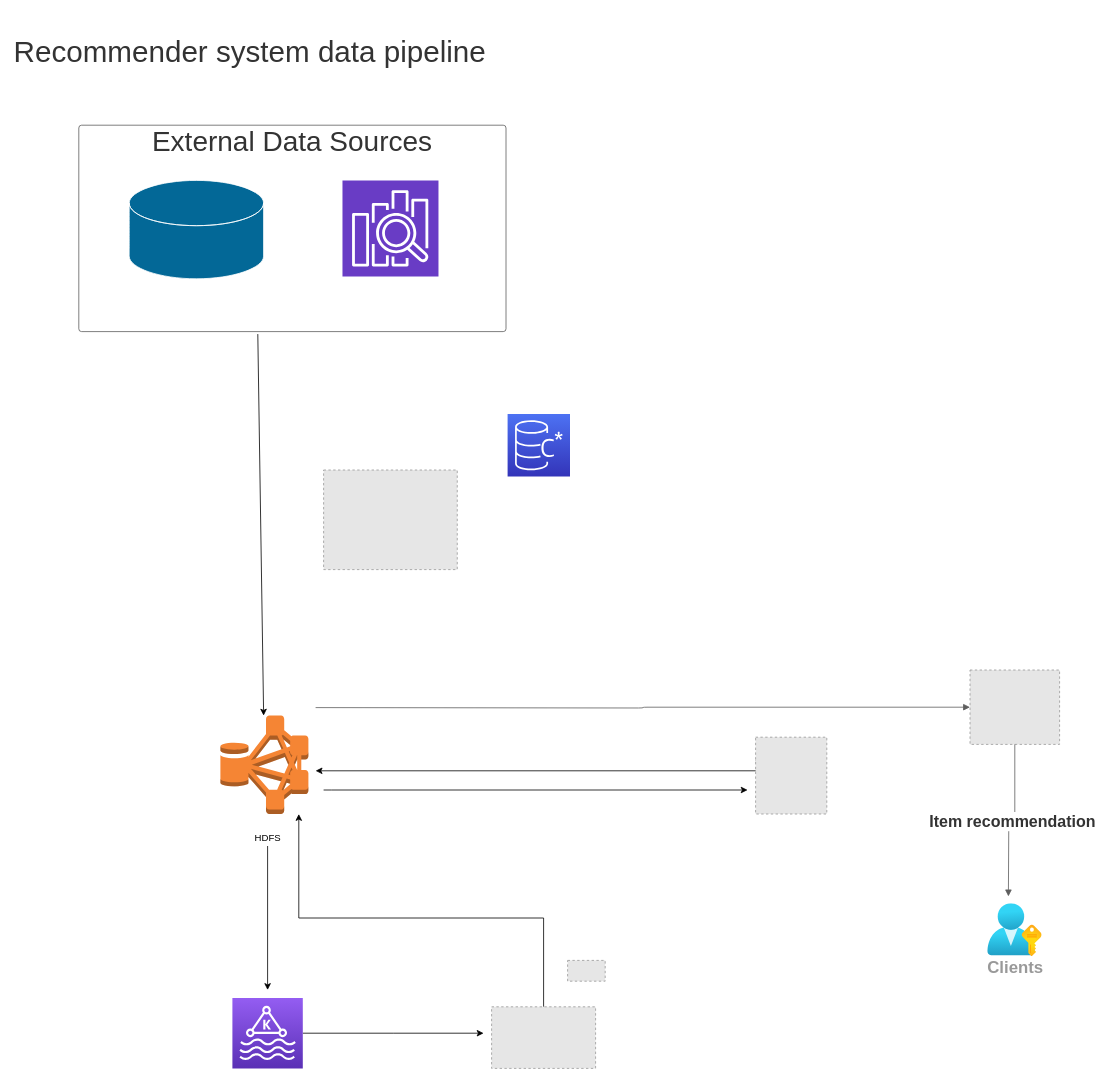
The diagram is 1117 pixels wide and 1082 high, and some of its shapes have lost their labels. Grey dashed boxes stand in for pictures. The shapes that lost their labels are listed below. From the top down, each one's centre as x and y in pixels, then its label:
At (196,229): "RDBMS".
At (390,228): "ELastic Search".
